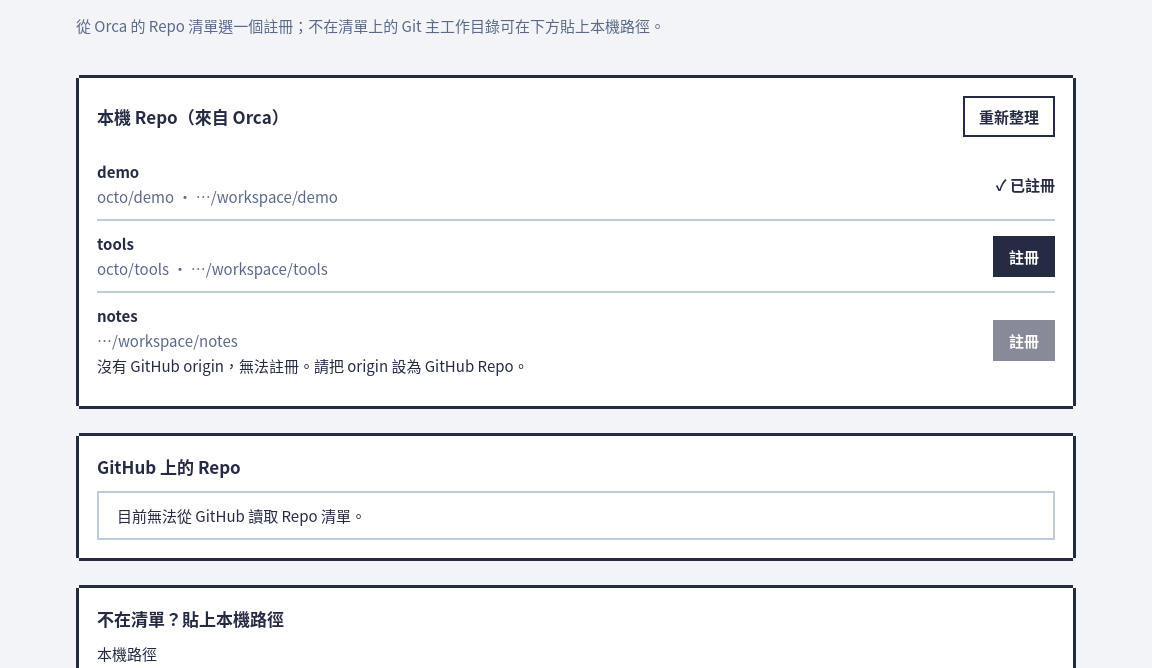
a failed source is explained while the other still lists; refresh refetches
Expected: the message with test id "repo-candidates-github-unavailable" reads "目前無法從 GitHub 讀取 Repo 清單。", [117,505,366,526]
Expected: the heading "GitHub 上的 Repo" is shown, [97,454,241,479]
Click the button with test id "repo-candidates-refresh". click: click(1009, 116)
box: [963,96,1055,137]
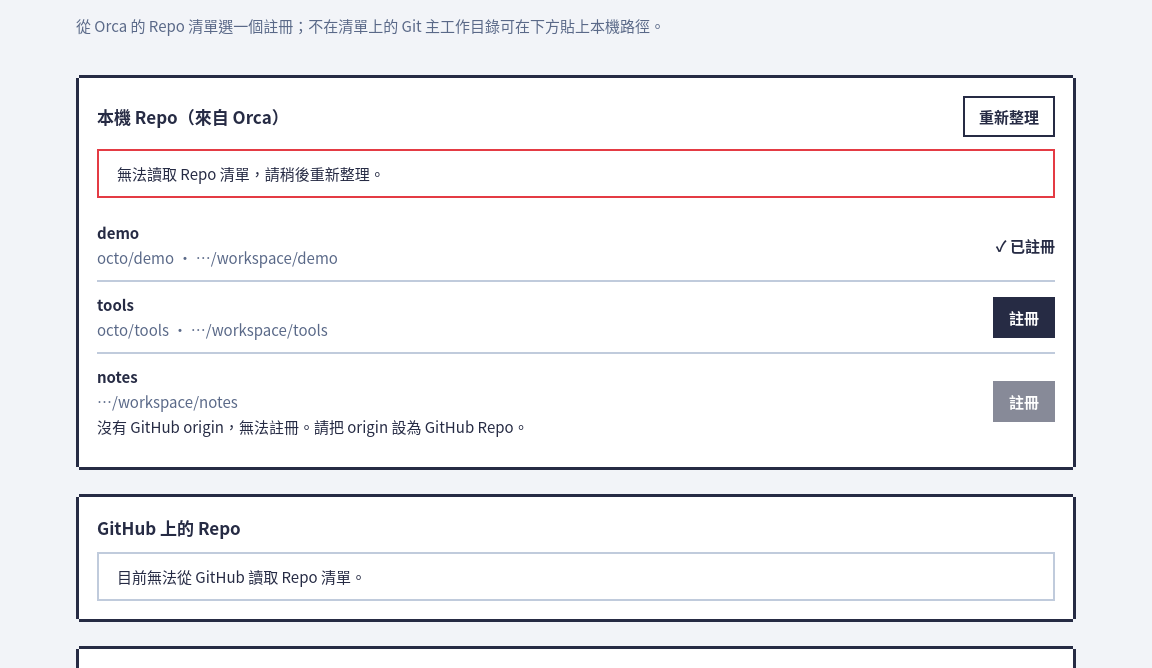
Expected: the message with test id "repo-candidates-failed" reads "無法讀取 Repo 清單，請稍後重新整理。", [117,163,385,184]
